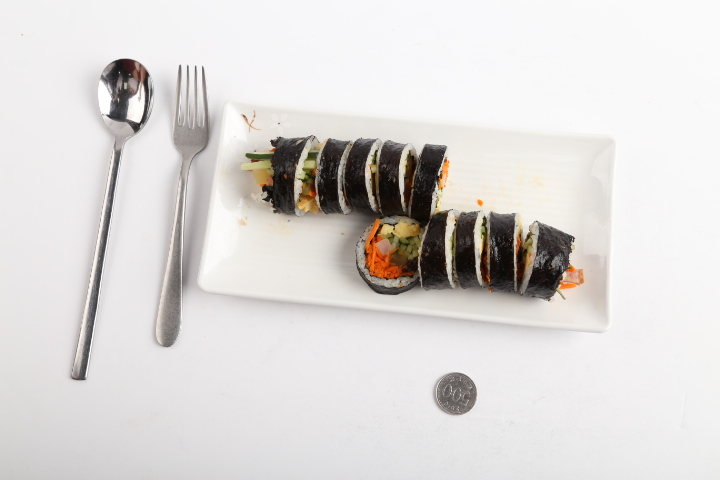dish: (196, 100, 616, 332)
ref_coin: (436, 372, 477, 415)
ref_fork: (173, 64, 209, 159)
ref_spoon: (98, 58, 155, 144)
김밥: (254, 136, 574, 302)
